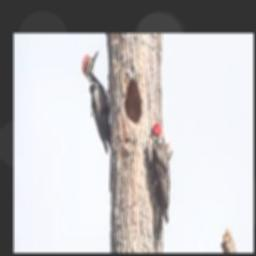Woodpecker: (81, 48, 111, 153), (147, 122, 170, 252)
